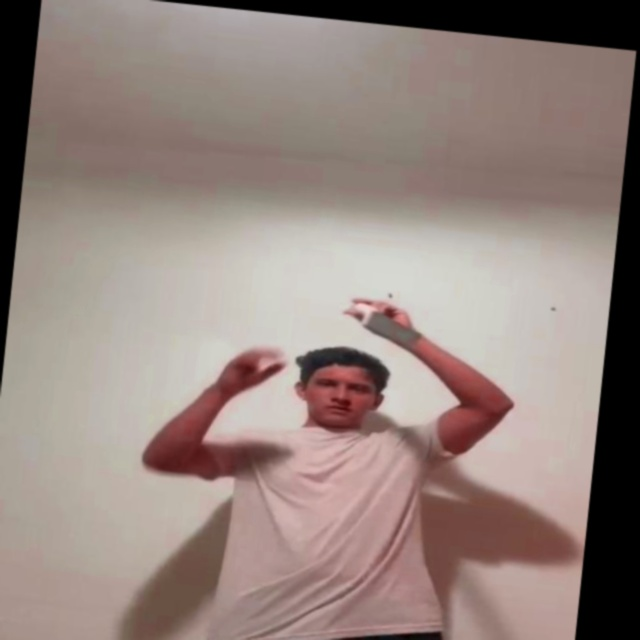Sharp-Object: (366, 310, 424, 349)
